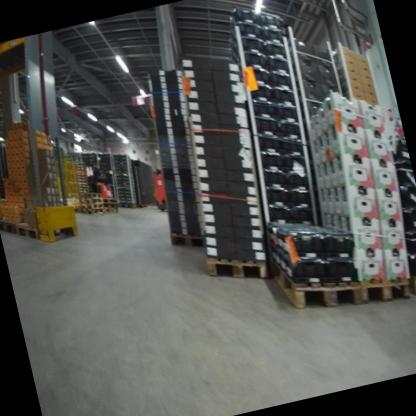pallet: (267, 244, 363, 322), (202, 236, 273, 296), (352, 262, 415, 307), (14, 209, 80, 244), (163, 221, 210, 260), (0, 34, 46, 70), (79, 196, 107, 215), (77, 202, 106, 219), (80, 190, 104, 208), (0, 214, 19, 236), (79, 185, 102, 203), (117, 197, 139, 212), (407, 268, 416, 301), (131, 198, 150, 213), (102, 204, 120, 218), (102, 193, 118, 205), (103, 199, 120, 210)
pallet_truck: (147, 164, 179, 219), (84, 158, 117, 210)
